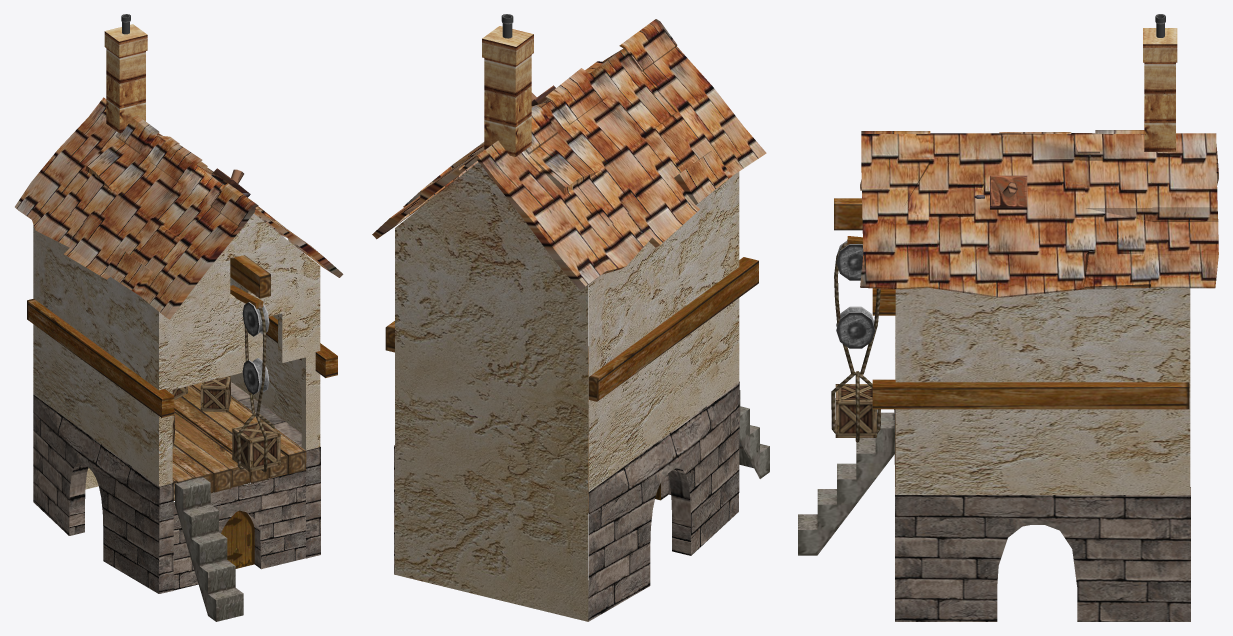
Rendered from building3.FBX.
The picture shows the model from 3 angles, left to right: view 1: azimuth 30°, elevation 25°; view 2: azimuth 150°, elevation 25°; view 3: azimuth 270°, elevation 25°; orthographic projection. The views are drawn at different scales.
Parts seen in each view (by area): view 1: Rectangle013; view 2: Rectangle013; view 3: Rectangle013.
Boxes of the visible parts, left/top/right/bottom form: Rectangle013: left=15, top=14, right=343, bottom=621; Rectangle013: left=372, top=14, right=769, bottom=621; Rectangle013: left=798, top=14, right=1218, bottom=621.
Size of the model in its own units: 165 by 396 by 269.
1 material, 1 textured.
